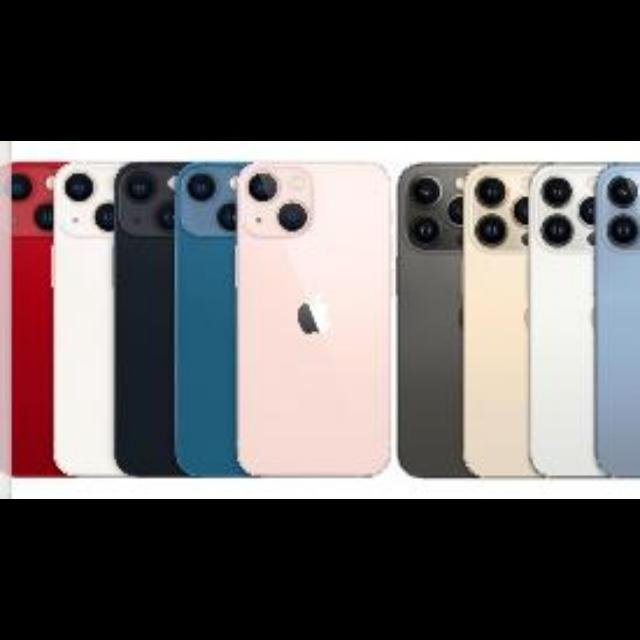phone: (131, 154, 422, 472), (370, 156, 638, 476)
